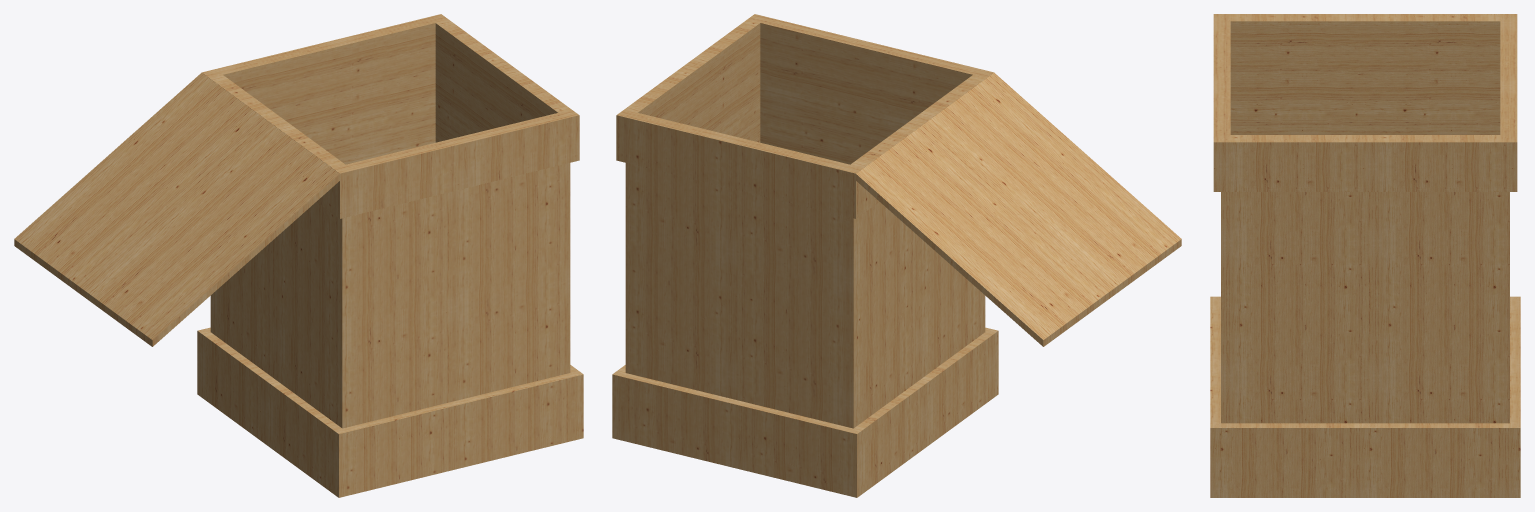
The model's file is caja_madera_abierta.fbx.
The picture shows the model from 3 angles, left to right: view 1: azimuth 30°, elevation 25°; view 2: azimuth 150°, elevation 25°; view 3: azimuth 270°, elevation 25°; orthographic projection. The views are drawn at different scales.
Visible parts, largest first — view 1: OpenWoodenCrate:Mesh; view 2: OpenWoodenCrate:Mesh; view 3: OpenWoodenCrate:Mesh.
Part boxes in pixels (bbox=[...]): OpenWoodenCrate:Mesh: bbox=[14, 14, 583, 497]; OpenWoodenCrate:Mesh: bbox=[612, 14, 1181, 497]; OpenWoodenCrate:Mesh: bbox=[1210, 14, 1520, 497].
Size of the model in its own units: 3.51 by 2.52 by 2.
1 material, 1 textured.
